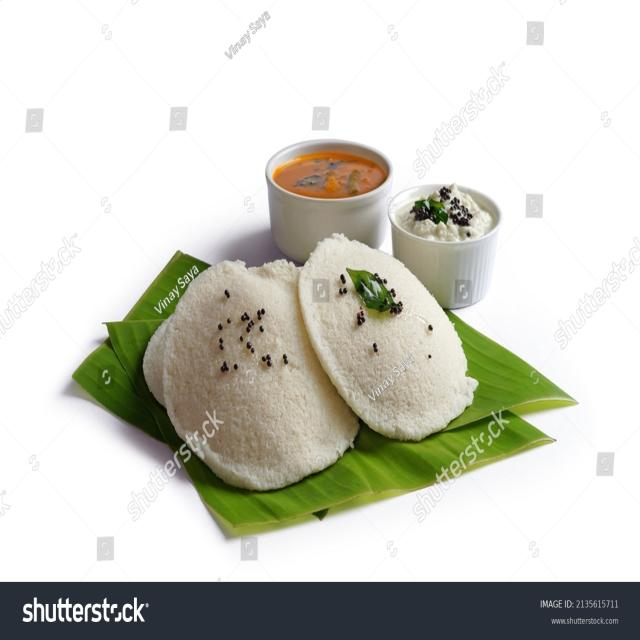IDLI: (140, 236, 473, 494)
